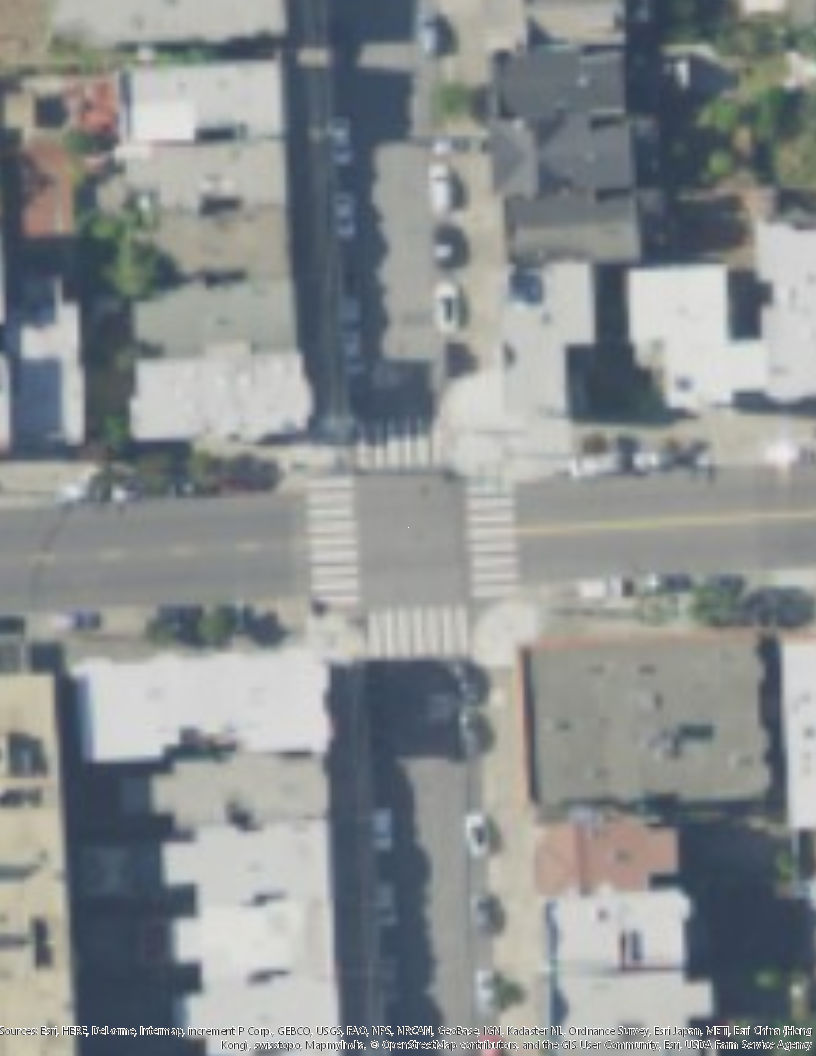zebracross: (305, 477, 363, 598), (468, 468, 519, 601), (369, 603, 469, 660), (356, 415, 437, 467)
